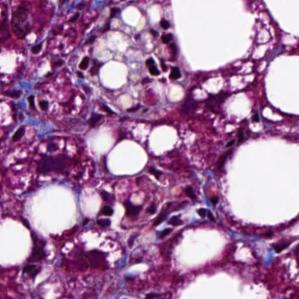inflammation: (93, 186, 219, 241), (139, 13, 185, 84), (0, 86, 55, 145)
